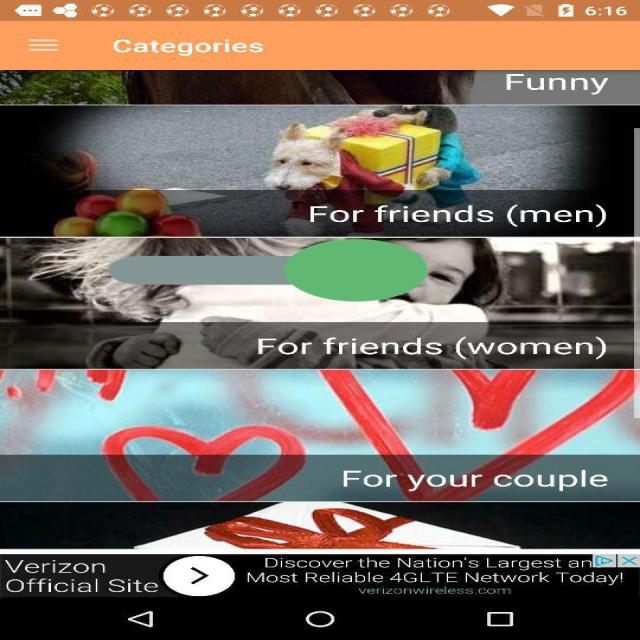social proof: (108, 201, 428, 340)
